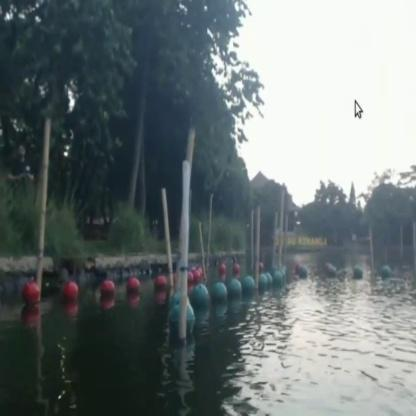green_buoy: (174, 298, 197, 332), (192, 284, 209, 312), (262, 268, 275, 286), (233, 278, 242, 300), (328, 264, 340, 280), (214, 282, 226, 298), (380, 263, 390, 280), (354, 262, 363, 280), (298, 264, 308, 277), (244, 279, 253, 292)
red_buoy: (24, 281, 38, 308), (63, 284, 73, 308), (127, 280, 139, 298), (155, 276, 168, 292), (102, 285, 112, 303), (218, 261, 226, 277), (234, 263, 240, 278), (188, 269, 194, 280), (197, 268, 202, 280)
